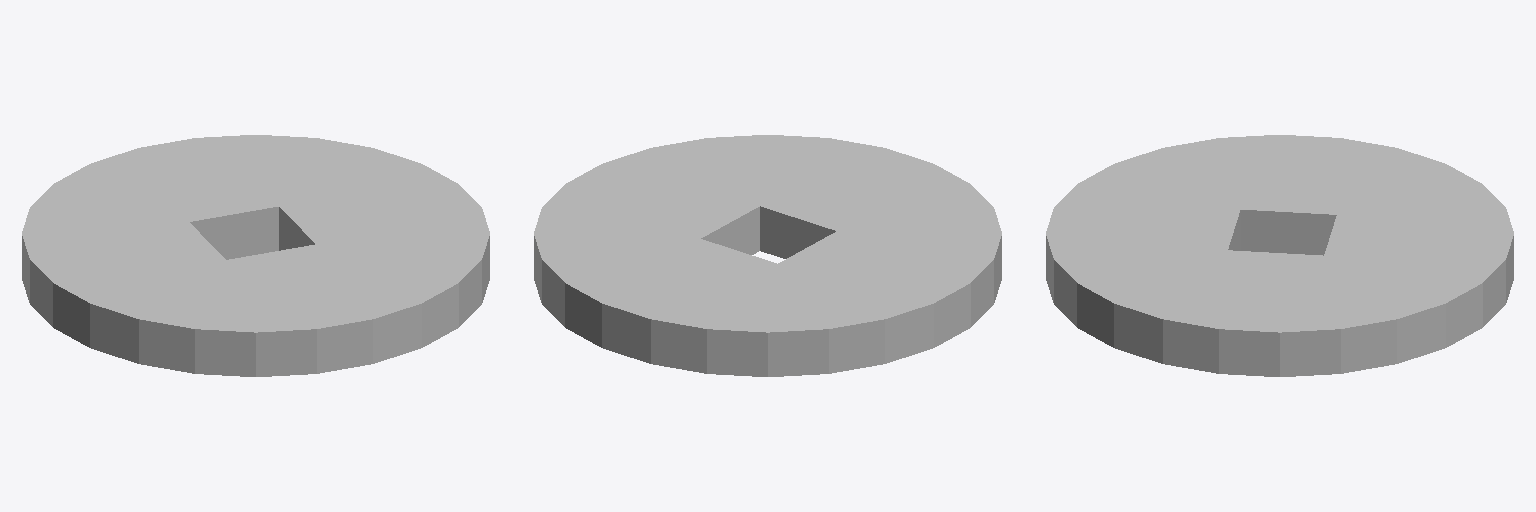
Rendered from Coin2.obj.
3 renders of one model, left to right at view 1: azimuth 30°, elevation 25°; view 2: azimuth 150°, elevation 25°; view 3: azimuth 270°, elevation 25°, orthographic.
Visible parts, largest first — view 1: coin; view 2: coin; view 3: coin.
Part boxes in pixels (x1,y1,x2,y2): coin: (22,135,489,376); coin: (534,135,1001,376); coin: (1046,135,1513,376).
Bounding box in the file's own units: 8.78 × 0.9269 × 8.78.